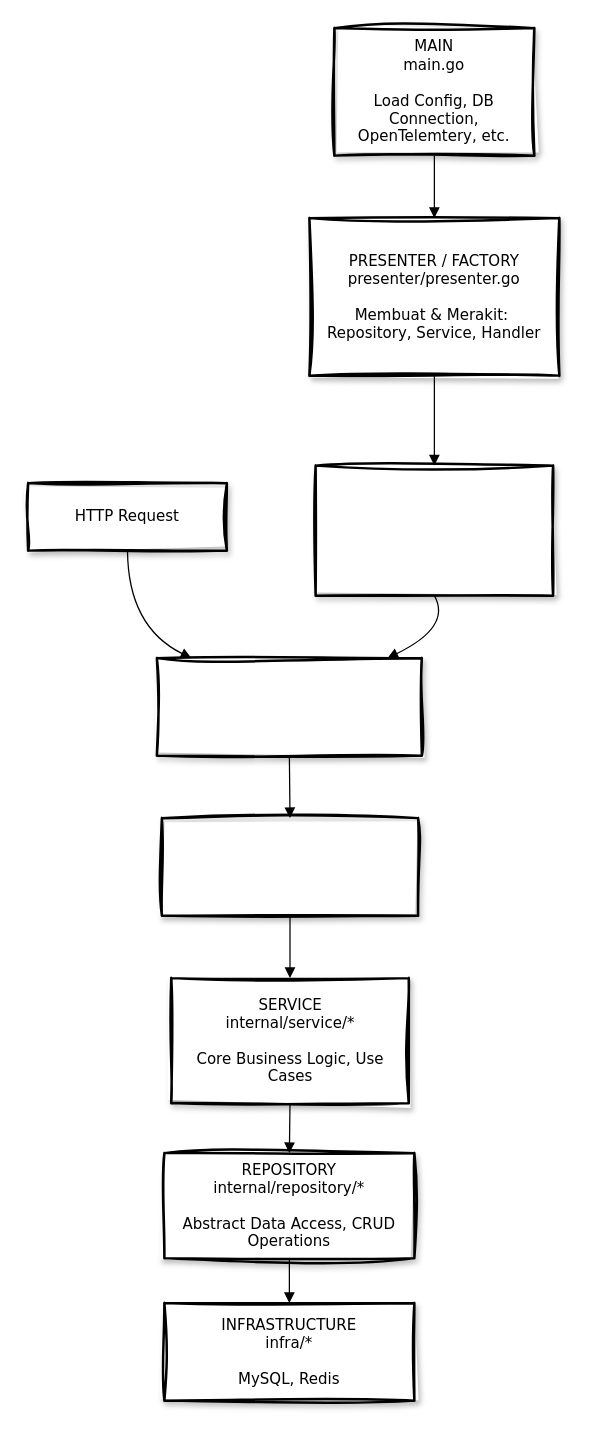
Some shapes in this 589 by 1431 pixel diagram are drawn without their labels. Here are the shapes that lost their labels. From the top down, the centre of each, then its label:
At pixel 435 532: "ROUTER router/router.go Konfigurasi Fiber App, Middleware, dan Rute".
At pixel 290 708: "MIDDLEWARE middleware/* JWT, CSRF, RBAC, etc".
At pixel 290 868: "HANDLER internal/handler/* Parsing, Validasi, Panggil Service".
